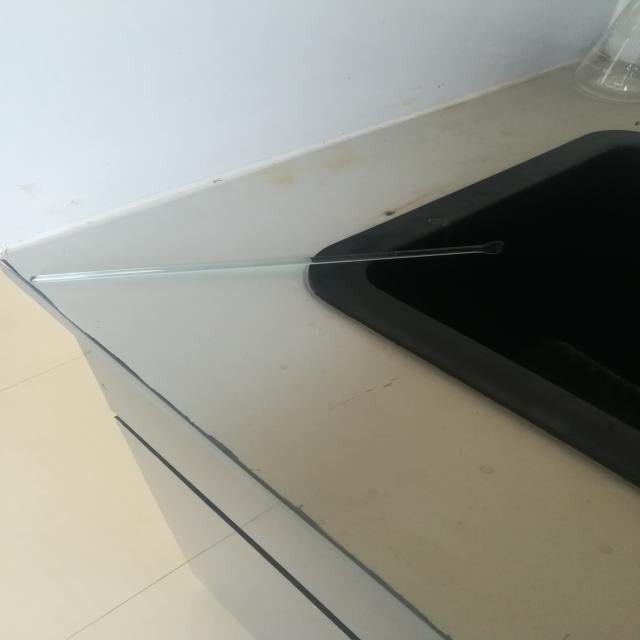Glass_Rod: (1, 232, 524, 298)
